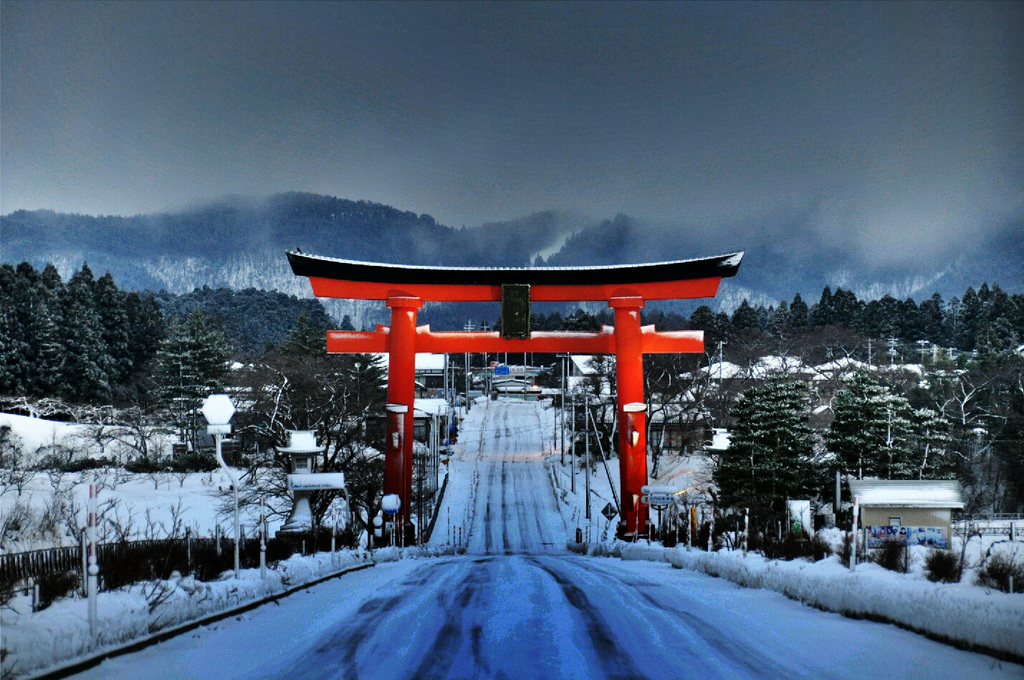Tree: (0, 252, 462, 604), (485, 271, 1023, 356), (690, 350, 862, 550), (818, 321, 964, 483), (964, 308, 1023, 518)
